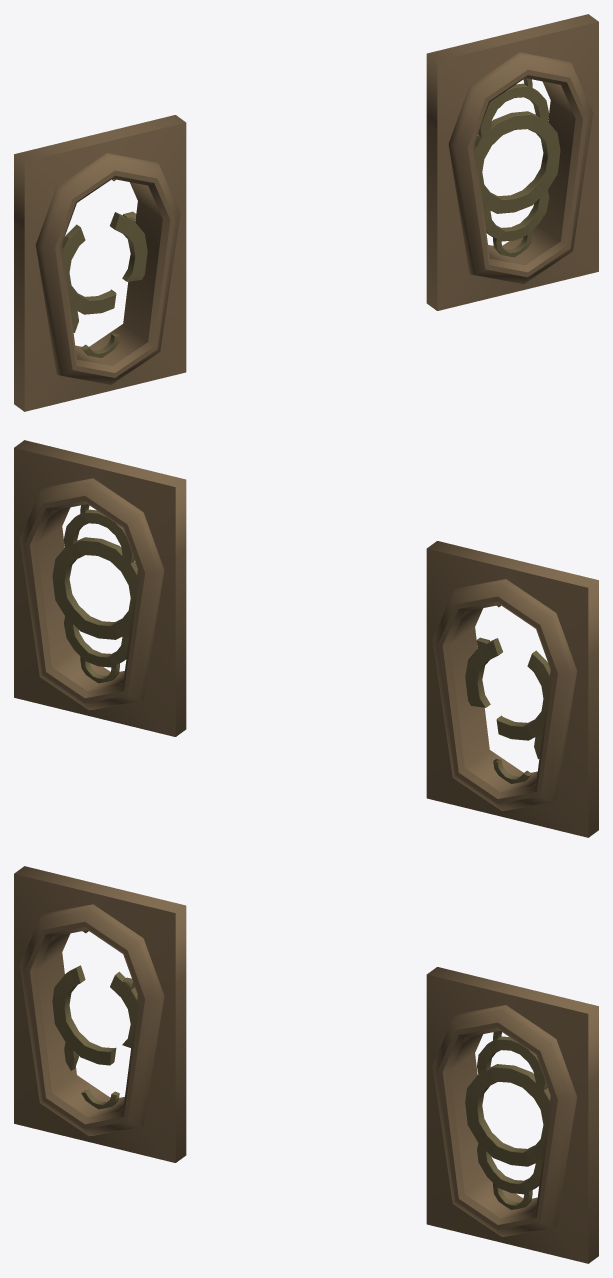
Rendered from Window_Frame_Meshes.fbx.
3 renders of one model, top to bottom at view 1: azimuth 30°, elevation 25°; view 2: azimuth 150°, elevation 25°; view 3: azimuth 330°, elevation 25°, orthographic.
Parts seen in each view (by area): view 1: polySurface1507, polySurface1508; view 2: polySurface1507, polySurface1508; view 3: polySurface1507, polySurface1508.
Part boxes in pixels (box(x1,y1,x2,y2)): polySurface1507: box(426, 14, 598, 310); polySurface1508: box(14, 115, 186, 411); polySurface1507: box(14, 440, 186, 736); polySurface1508: box(426, 541, 598, 837); polySurface1507: box(426, 967, 598, 1263); polySurface1508: box(14, 866, 186, 1162).
Size of the model in its own units: 46.39 by 19.29 by 4.22.
